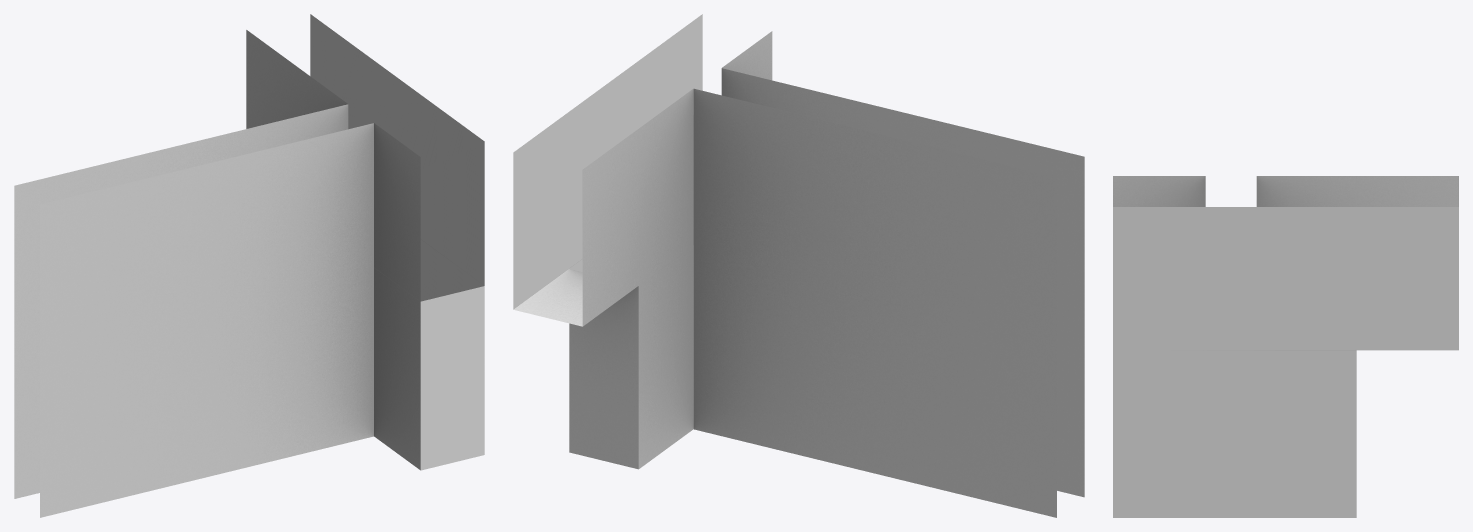
Rendered from chamber.glb.
The picture shows the model from 3 angles, left to right: view 1: azimuth 30°, elevation 25°; view 2: azimuth 150°, elevation 25°; view 3: azimuth 270°, elevation 25°; orthographic projection. The views are drawn at different scales.
Visible parts, largest first — view 1: Plane; view 2: Plane; view 3: Plane.
Part boxes in pixels (x1,y1,x2,y2): Plane: (14,14,484,517); Plane: (513,14,1084,517); Plane: (1113,176,1458,517).
Bounding box in the file's own units: 5.88 × 4.42 × 4.45.
Materials: 1 (1 with a texture image).
